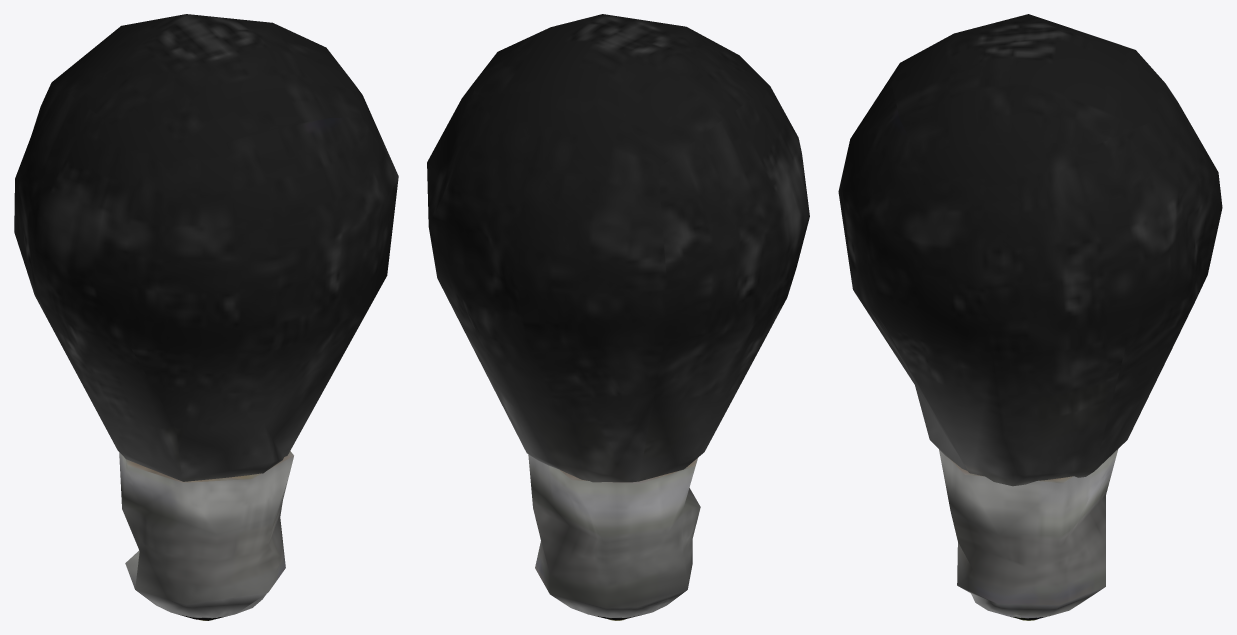
Rendered from ph-lightbulb-01-lite.glb.
3 renders of one model, left to right at view 1: azimuth 30°, elevation 25°; view 2: azimuth 150°, elevation 25°; view 3: azimuth 270°, elevation 25°, orthographic.
Visible parts, largest first — view 1: lightbulb_01; view 2: lightbulb_01; view 3: lightbulb_01.
Boxes of the visible parts, x1,y1,x2,y2 form: lightbulb_01: (14,14,398,620); lightbulb_01: (427,14,809,620); lightbulb_01: (838,14,1222,620).
Size of the model in its own units: 0.0594 by 0.0997 by 0.0594.
2 materials, 2 textured.
